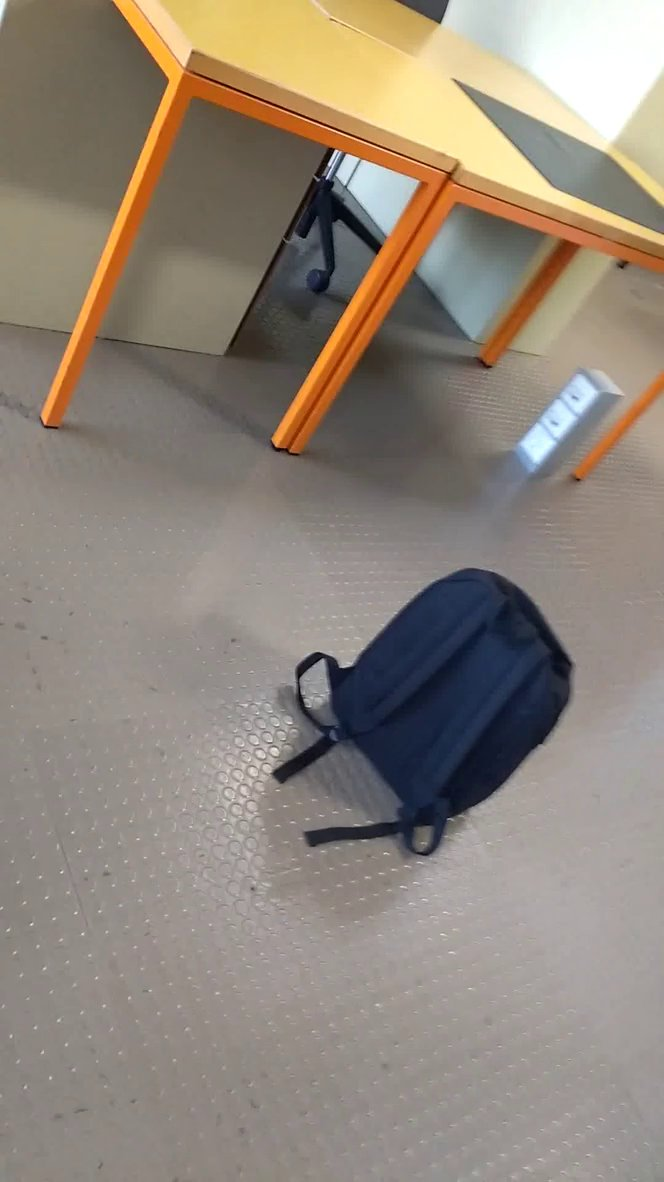bag: (269, 555, 585, 864)
